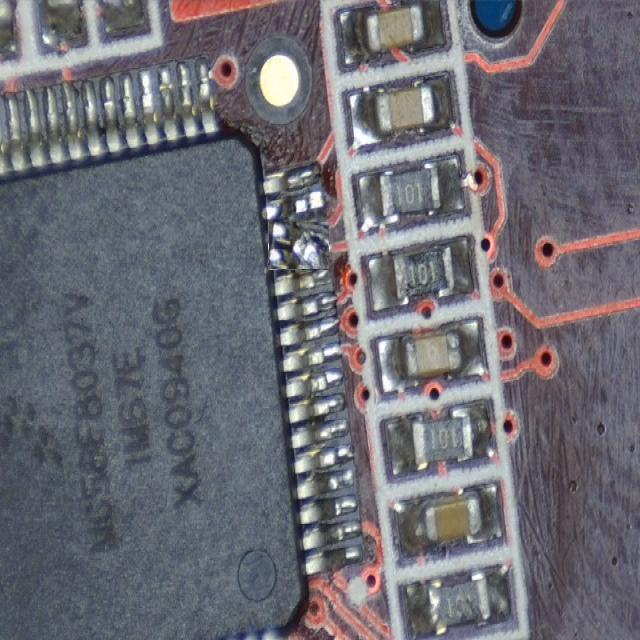Short_circuit: (268, 223, 329, 268)
